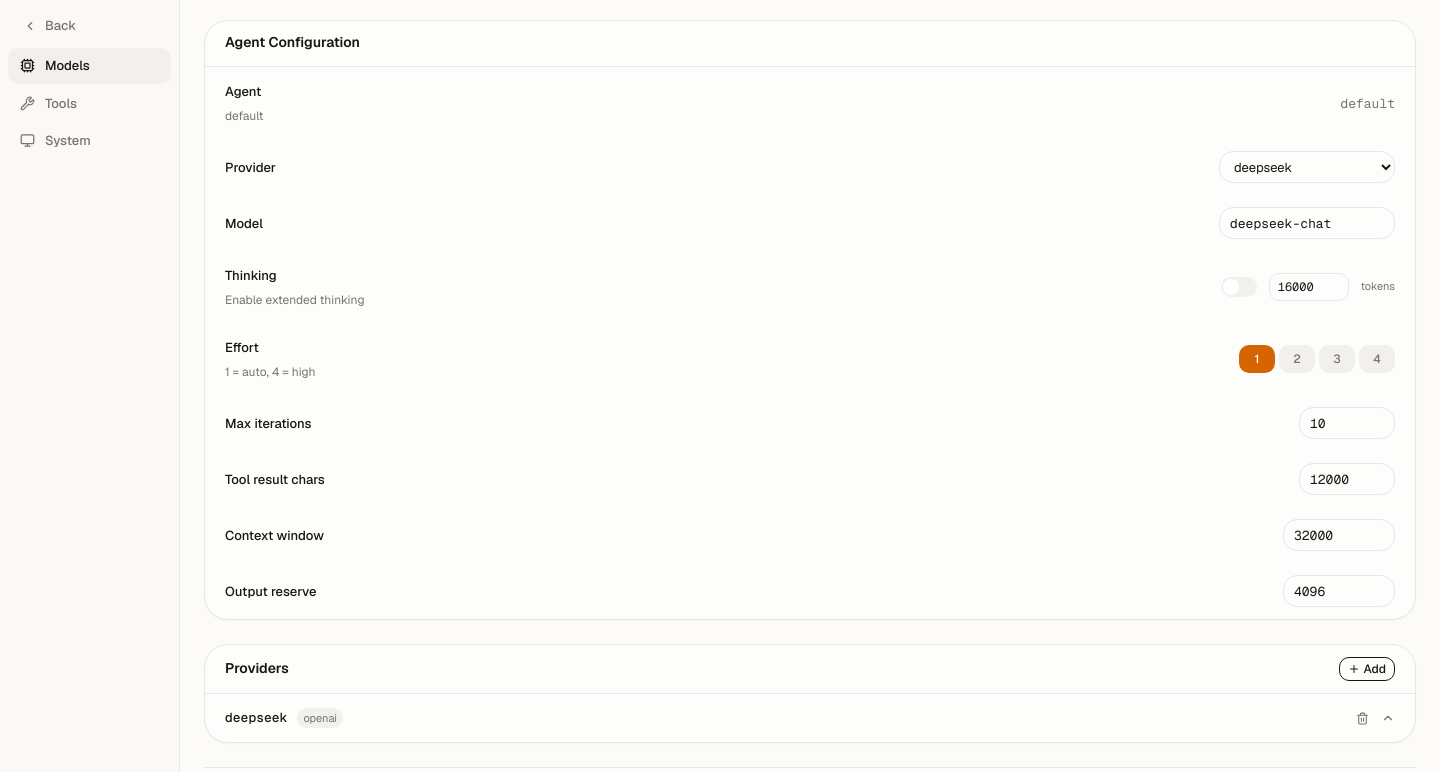
SettingsView › loads redacted provider config and tools
Expected: the dropdown showing "deepseek" is shown, [1219,151,1395,183]
Expand the provider row to see the API key input
Step 1. Click the button "deepseek openai" → (256, 718), box [205,694,1415,742]
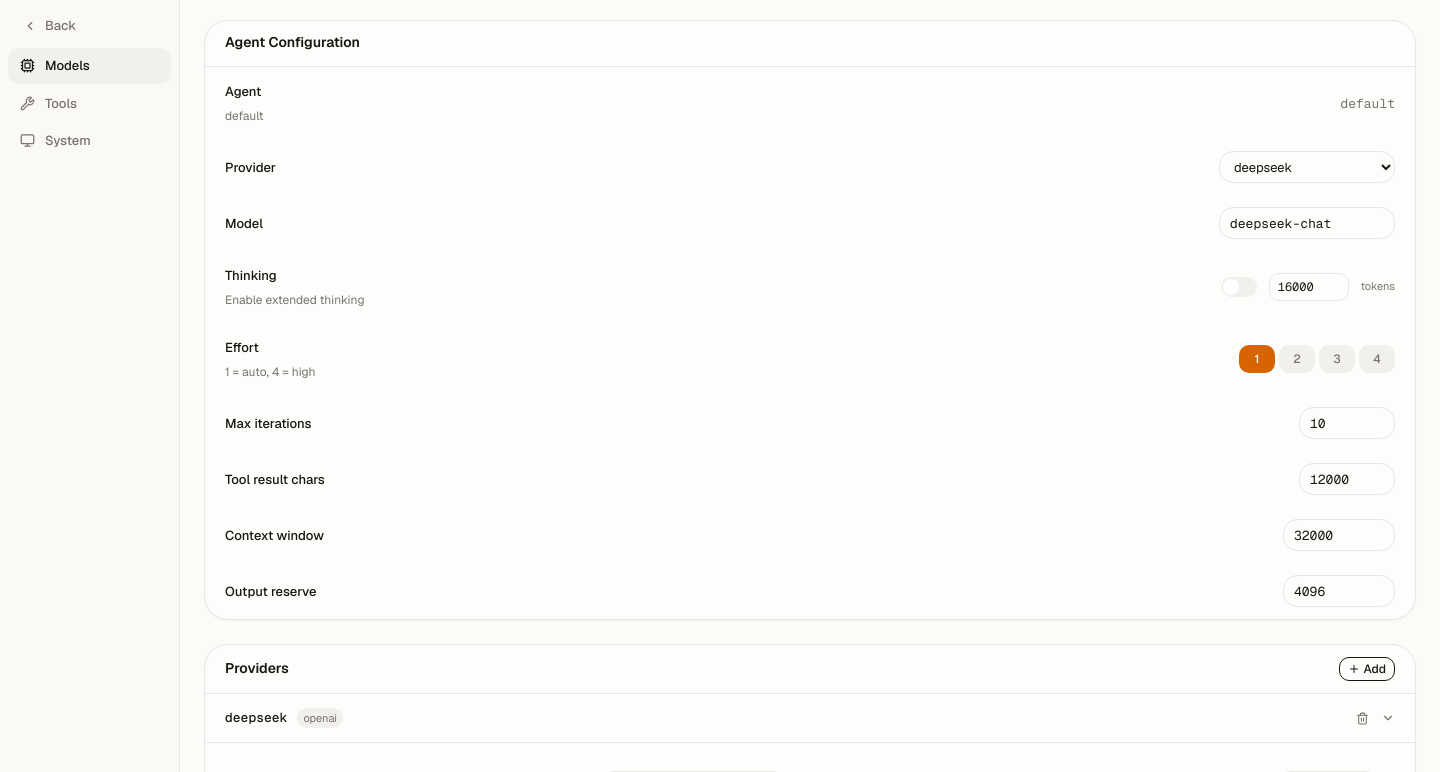
Navigate to Tools section to see available tools
Step 2. Click the button "Tools" → (90, 103), box [8,86,171,121]
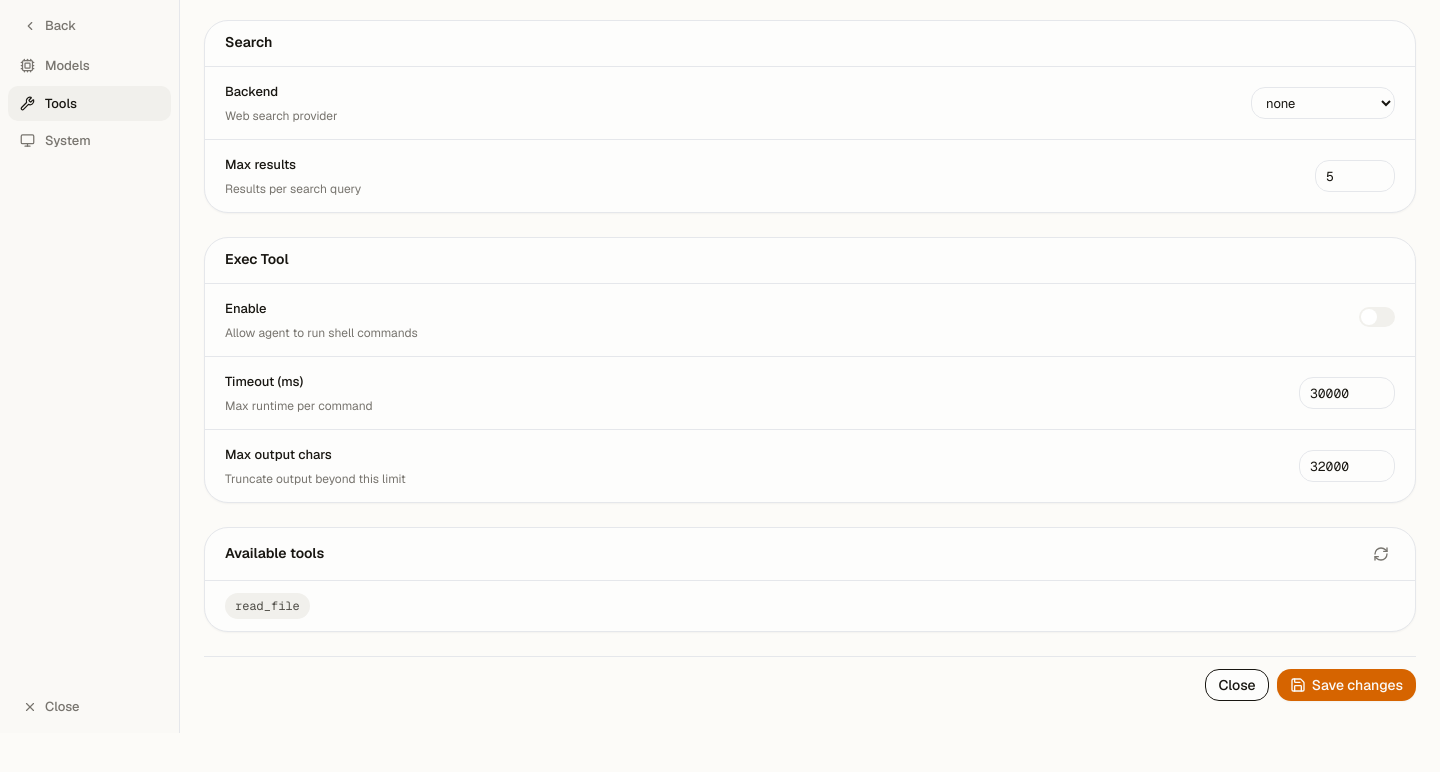
Now the text "read_file" is shown, box [225,593,310,619]
